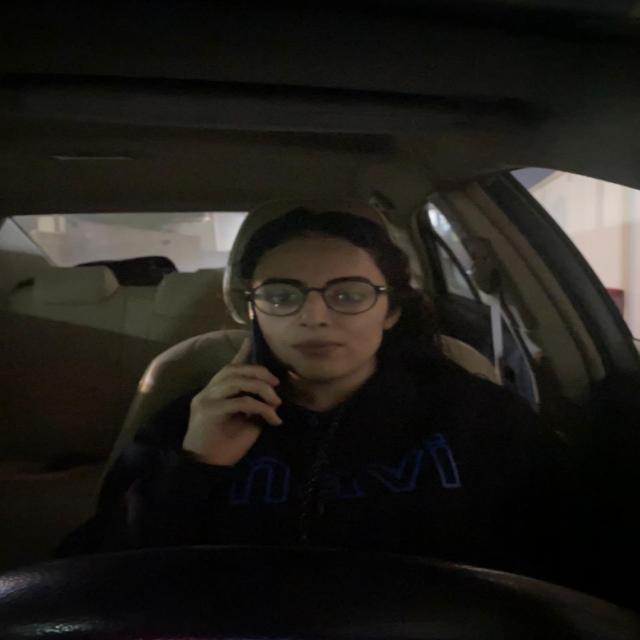mobile: (238, 332, 310, 418)
person: (249, 210, 400, 379)
